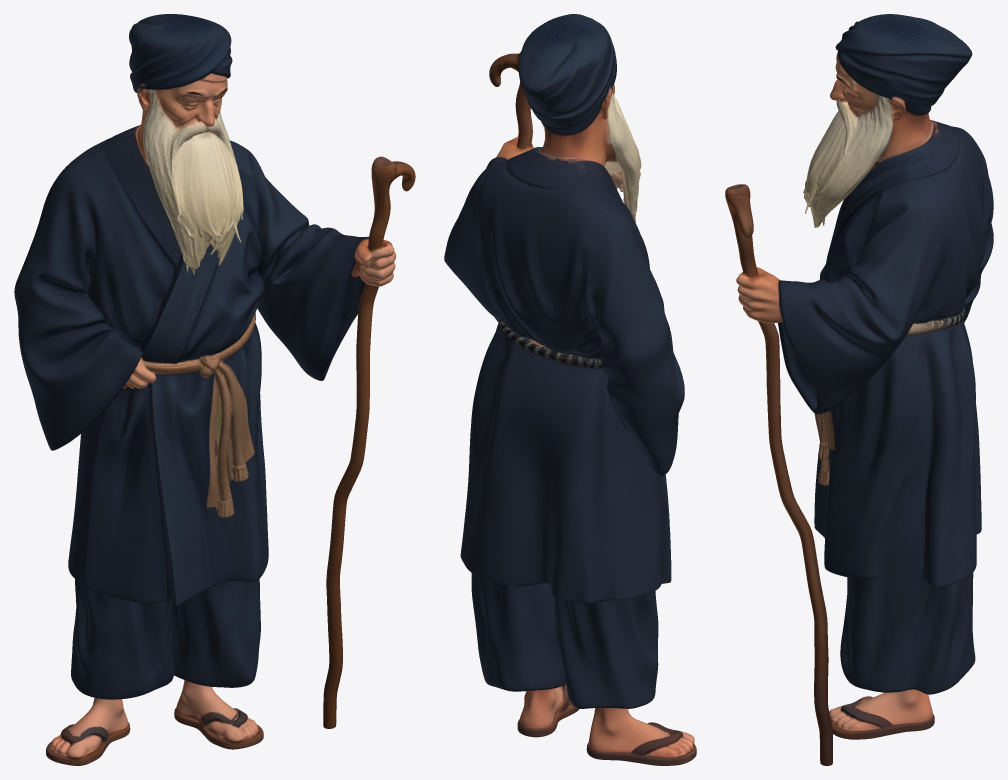
Rendered from Villager_Elder.glb.
3 views of the same model, side by side, from view 1: azimuth 30°, elevation 25°; view 2: azimuth 150°, elevation 25°; view 3: azimuth 270°, elevation 25° (orthographic). The views are drawn at different scales.
Size of the model in its own units: 0.811 by 1.9 by 0.6695.
Materials: 1 (1 with a texture image).
